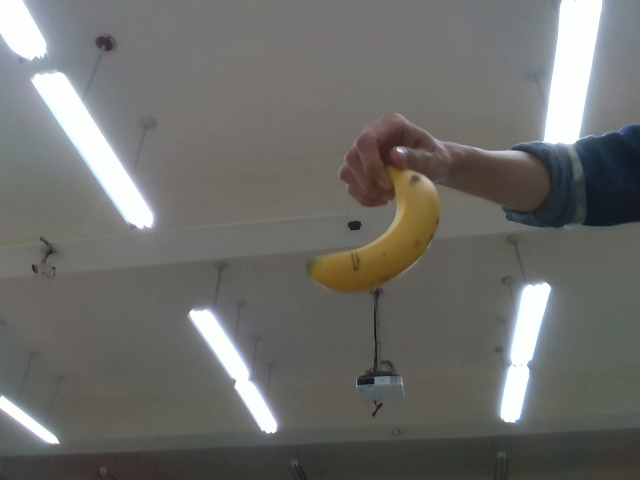banana: (307, 163, 445, 296)
